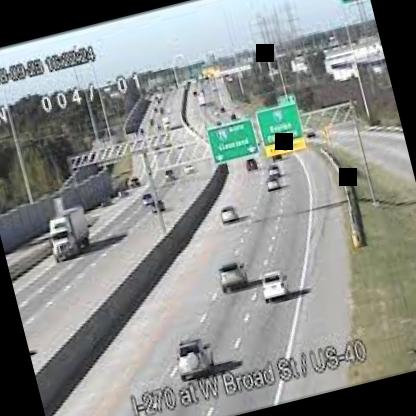car: (28, 191, 107, 276), (160, 316, 227, 390), (210, 251, 256, 309), (259, 266, 296, 314), (131, 194, 170, 221), (216, 197, 243, 231), (256, 175, 284, 204), (240, 158, 268, 178)
